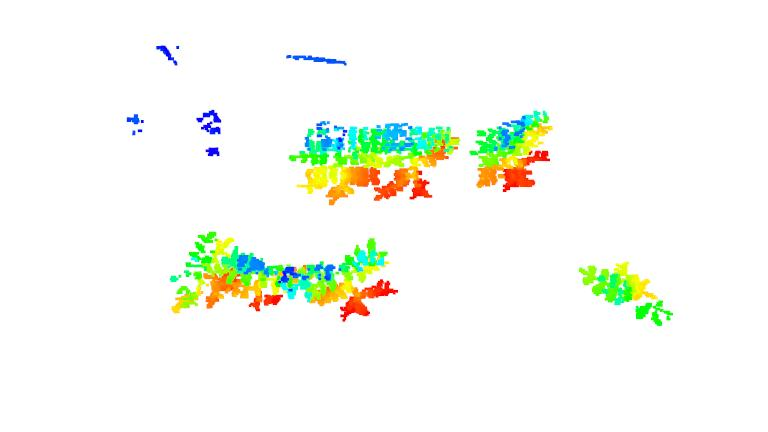chickpea: (283, 124, 382, 212), (576, 260, 684, 339), (373, 123, 471, 207), (159, 229, 257, 311), (474, 105, 558, 193), (319, 237, 407, 320), (241, 247, 317, 330)
